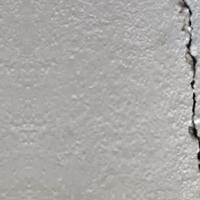crack: (145, 0, 199, 174)
